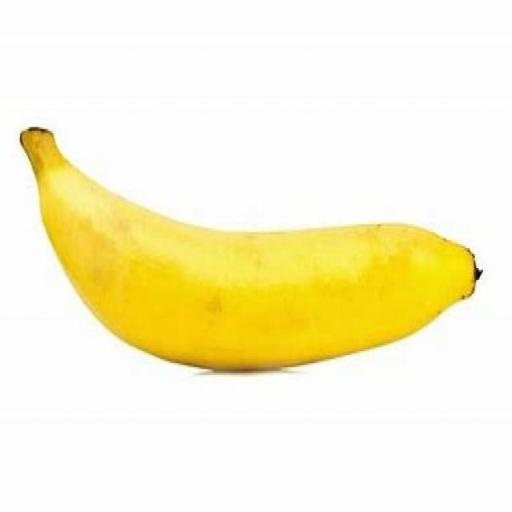fruit: (20, 128, 479, 370)
